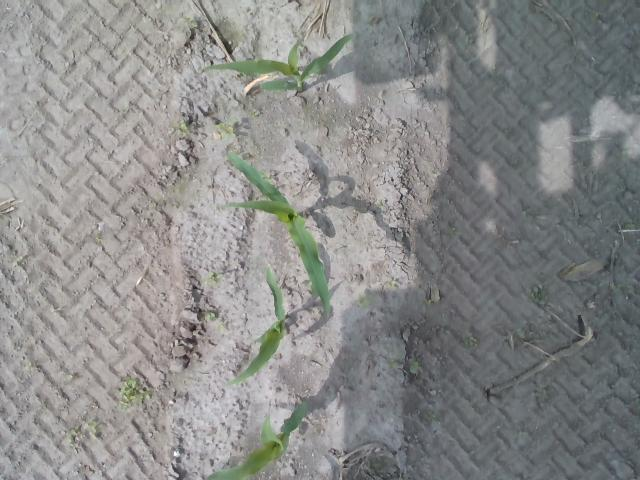Maize: (226, 150, 332, 314), (206, 34, 356, 93), (208, 400, 306, 480), (227, 264, 287, 382)
Weeds: (115, 376, 154, 410), (69, 422, 99, 438), (206, 312, 226, 332), (213, 122, 234, 137), (170, 120, 188, 134), (528, 284, 543, 299), (208, 270, 222, 284), (358, 294, 370, 306), (248, 109, 259, 119)
